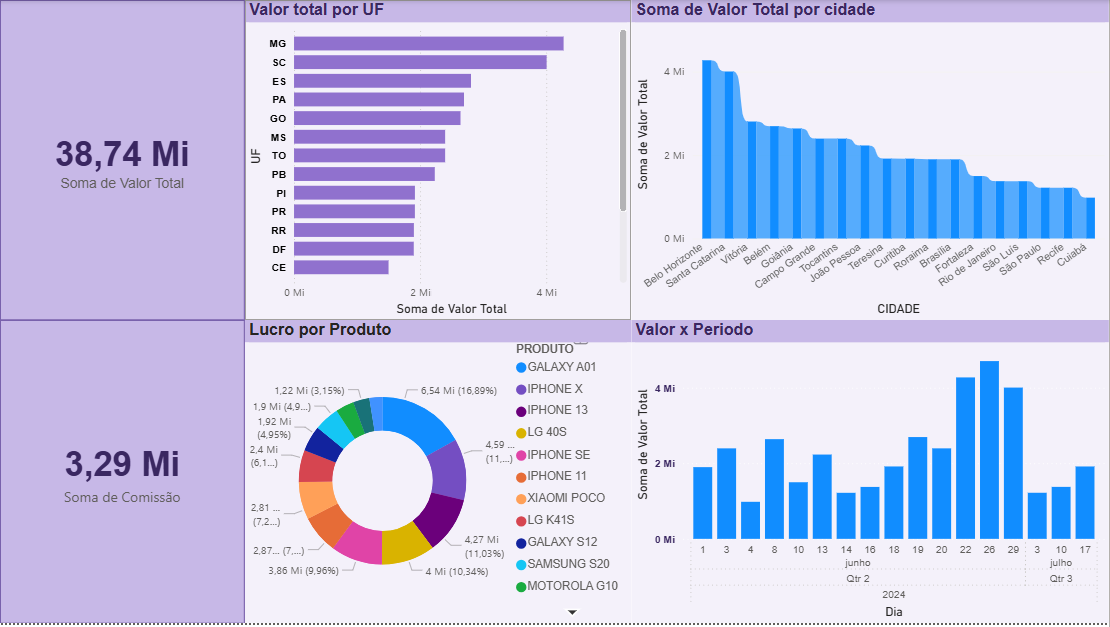

Layout of this report page (visuals, bound fields, positions):
{"tool":"powerbi","page":{"name":"Página 1","canvas":[1280,720],"ordinal":0},"visuals":[{"type":"columnChart","title":"Valor x Periodo","fields":{"Category":["Tabela.DATAVENDA.Variation.Hierarquia de datas.Ano","Tabela.DATAVENDA.Variation.Hierarquia de datas.Trimestre","Tabela.DATAVENDA.Variation.Hierarquia de datas.Mês","Tabela.DATAVENDA.Variation.Hierarquia de datas.Dia"],"Y":["Sum(Tabela.TOTAL)"]},"box":[728.6,369.3,551.1,350.6],"z":0},{"type":"barChart","title":"Valor total por UF","fields":{"Category":["Tabela.UF"],"Y":["Sum(Tabela.TOTAL)"]},"box":[282.8,0,445.8,369.3],"z":1},{"type":"donutChart","title":"Lucro por Produto","fields":{"Category":["Tabela.PRODUTO"],"Y":["Sum(Tabela.TOTAL)"]},"box":[282.8,369.3,445.8,350.6],"z":2},{"type":"card","fields":{"Values":["Sum(Tabela.TOTAL)"]},"box":[0,0,282.8,369.3],"z":3},{"type":"card","fields":{"Values":["Sum(Tabela.COMISSÃO)"]},"box":[0,369.3,282.8,350.6],"z":4},{"type":"ribbonChart","title":"Soma de Valor Total por cidade","fields":{"Category":["Tabela.CIDADE"],"Y":["Sum(Tabela.Valor Total)"]},"box":[728.6,0,551.1,369.3],"z":5}]}

Visuals, with their boxes in screenshot pixels (x1, y1, x2, y2), scaled from the page's 1280x720 canvas onto the 1110x627 screenshot:
"Valor x Periodo" columnChart: x1=632, y1=322, x2=1109, y2=626
"Valor total por UF" barChart: x1=245, y1=0, x2=632, y2=322
"Lucro por Produto" donutChart: x1=245, y1=322, x2=632, y2=626
card - Sum(Tabela.TOTAL): x1=0, y1=0, x2=245, y2=322
card - Sum(Tabela.COMISSÃO): x1=0, y1=322, x2=245, y2=626
"Soma de Valor Total por cidade" ribbonChart: x1=632, y1=0, x2=1109, y2=322
